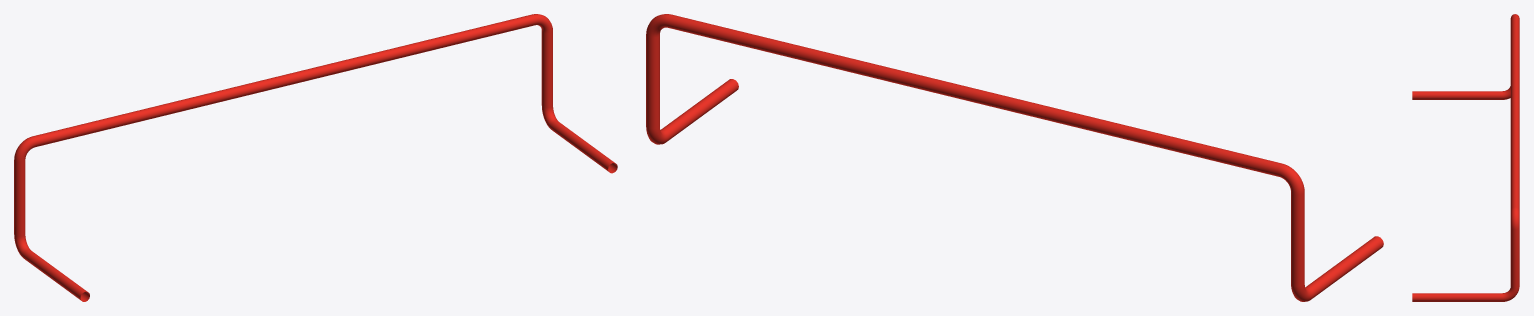
File: hurdle.glb
The picture shows the model from 3 angles, left to right: view 1: azimuth 30°, elevation 25°; view 2: azimuth 150°, elevation 25°; view 3: azimuth 270°, elevation 25°; orthographic projection. The views are drawn at different scales.
Parts seen in each view (by area): view 1: hurdle; view 2: hurdle; view 3: hurdle.
Boxes of the visible parts, bbox=[...] form: hurdle: bbox=[14, 14, 617, 301]; hurdle: bbox=[646, 14, 1383, 301]; hurdle: bbox=[1412, 14, 1519, 301].
Bounding box in the file's own units: 11.01 × 2.23 × 2.43.
